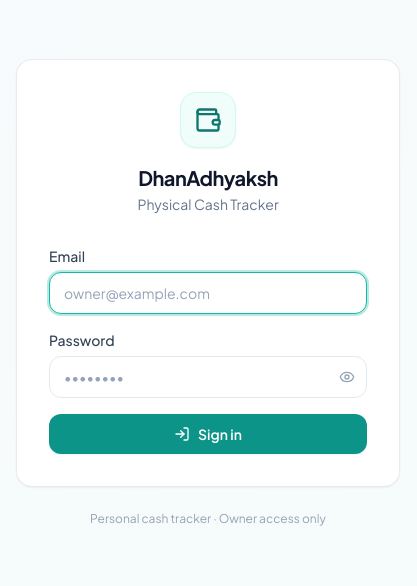
it: Auth: Incorrect credentials show error › displays an error message for wrong credentials
Type "wrong@test.com" into the field labelled "Email" at (208, 293), box [49,272,367,314]
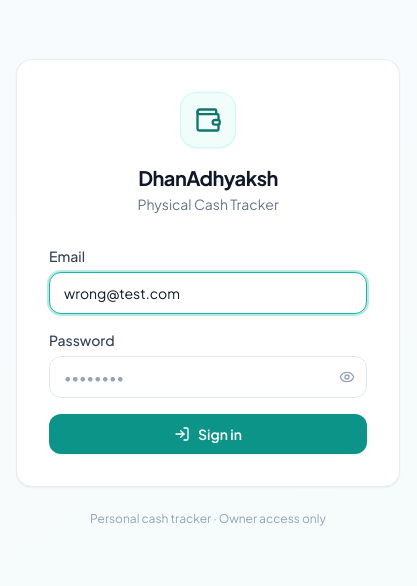
Type "wrongpassword" into the password field labelled "Password" at (208, 377), box [49,356,367,398]
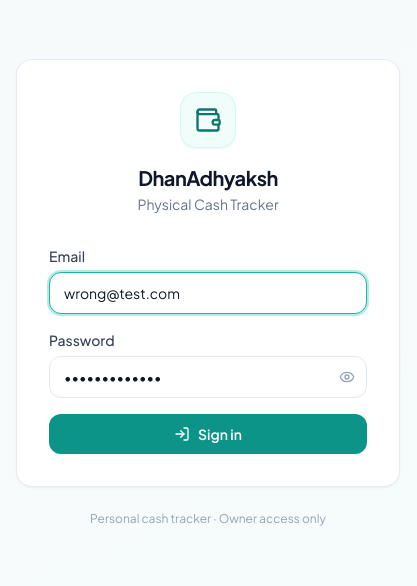
Click the button "Sign in" at (208, 434), box [49,414,367,454]
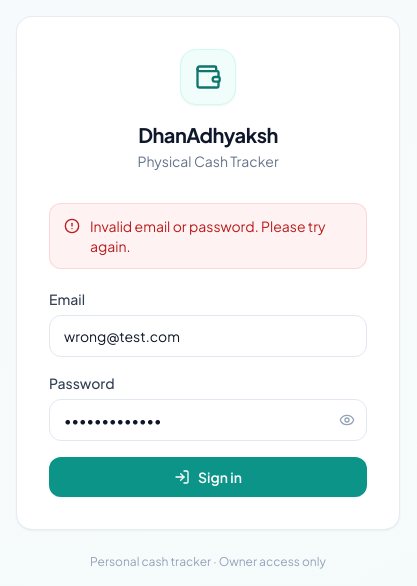
Expected: the button "Sign in" is shown, [49,457,367,497]
Result: the text "Invalid email or password. Please try again." is shown at [90,216,352,256]
